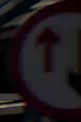Two way: (23, 15, 78, 100)
